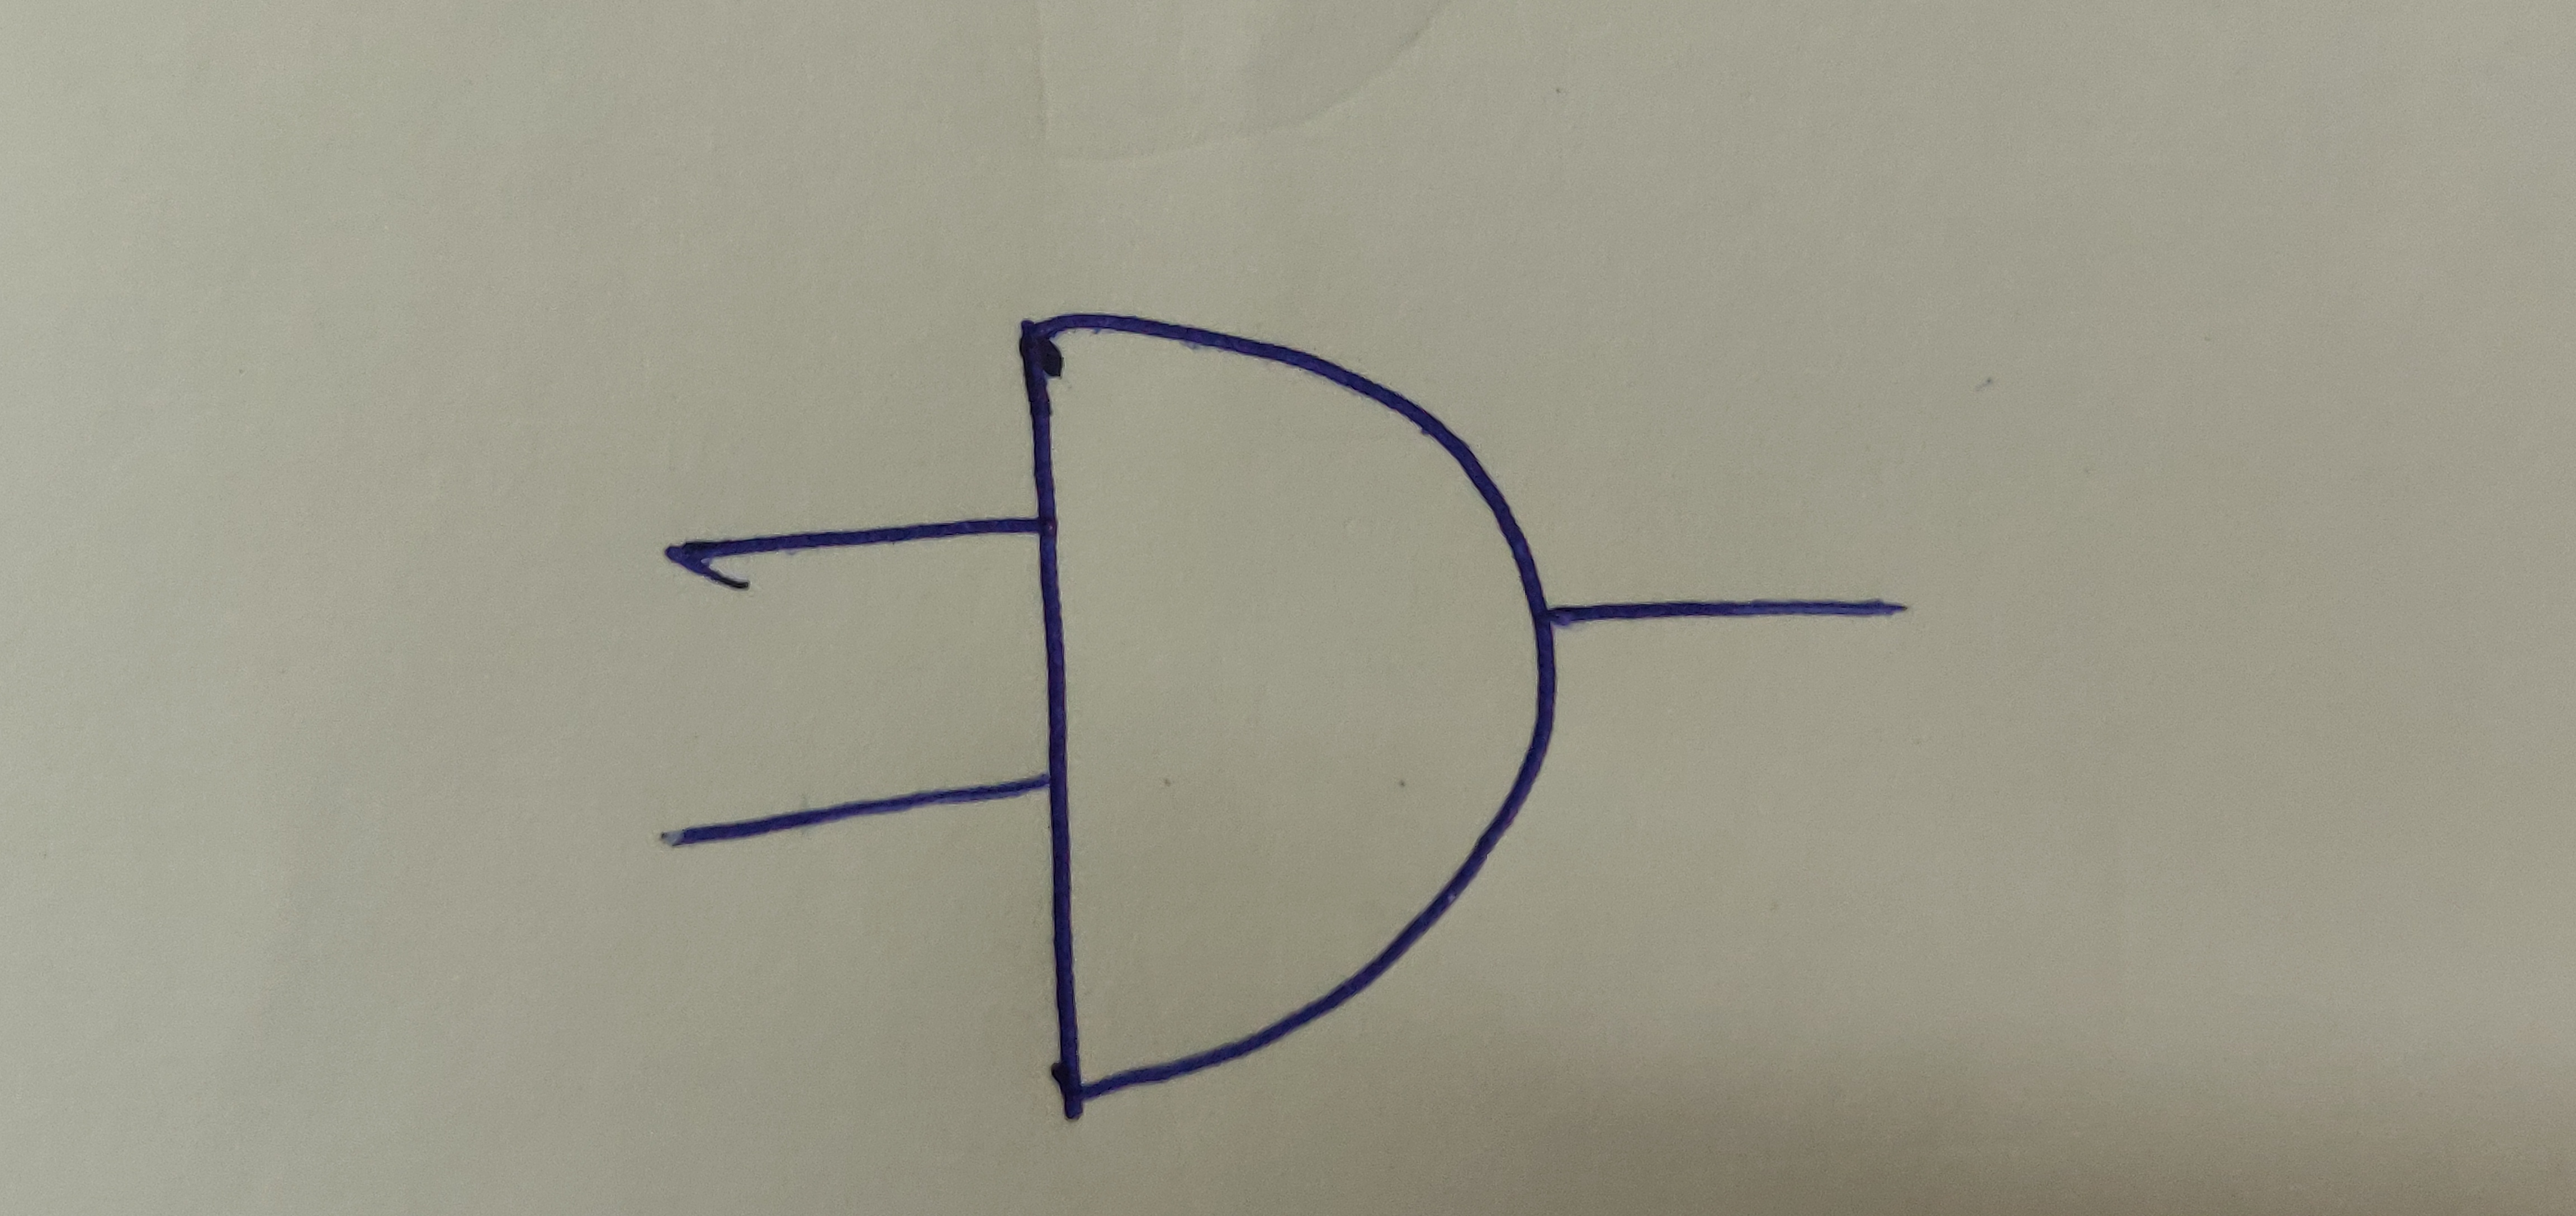and: (1012, 311, 1562, 1106)
